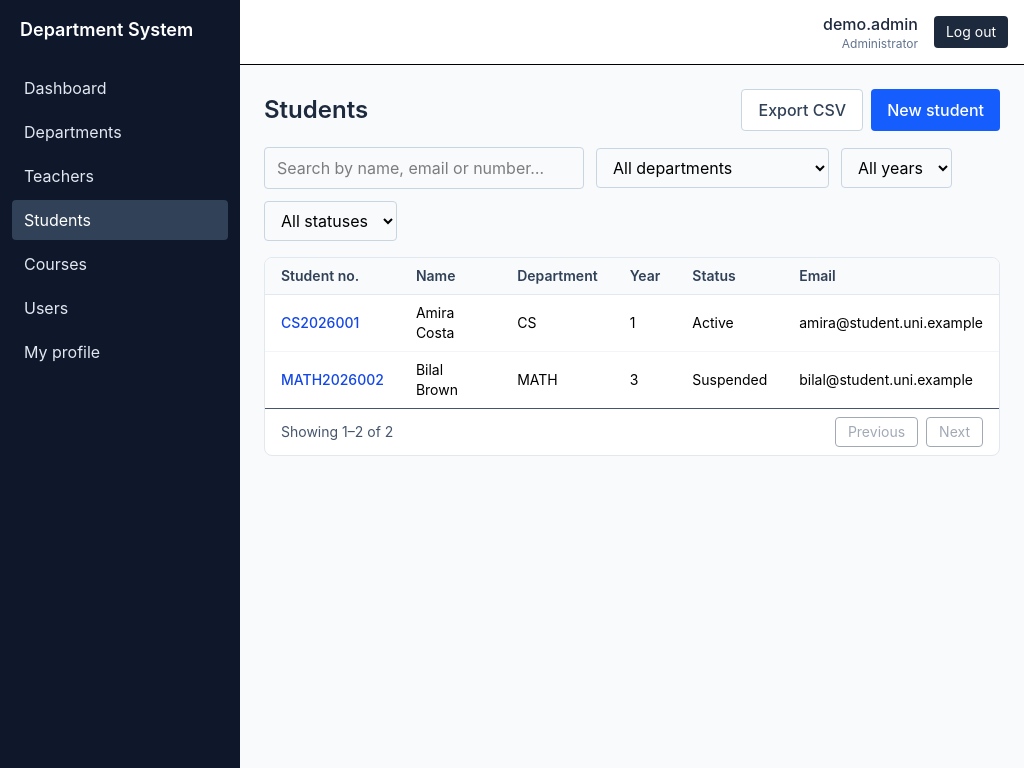
Test: FR-4.1–4.3 create (with every FR-4.2 field and an optional account) › validates before calling the API
Click the button "New student".
click(936, 110)  # box left=871, top=89, right=1000, bottom=131
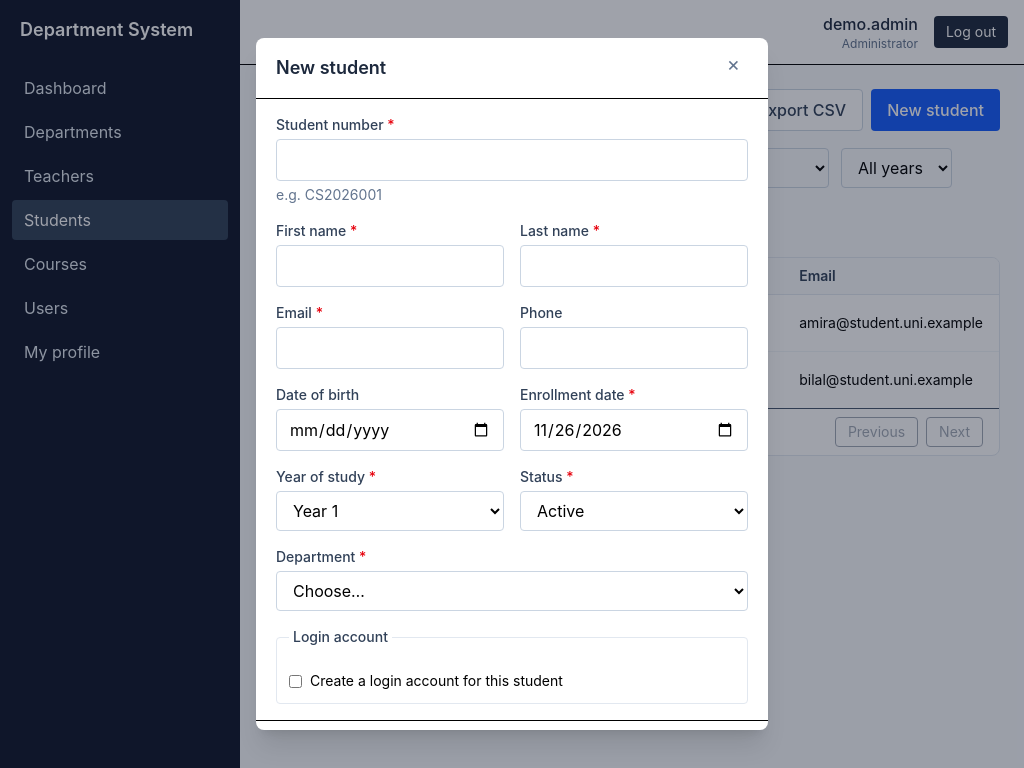
Type "CS 01" into the field labelled "Student number *".
click(512, 160); type("CS 01")  # box left=276, top=139, right=748, bottom=181
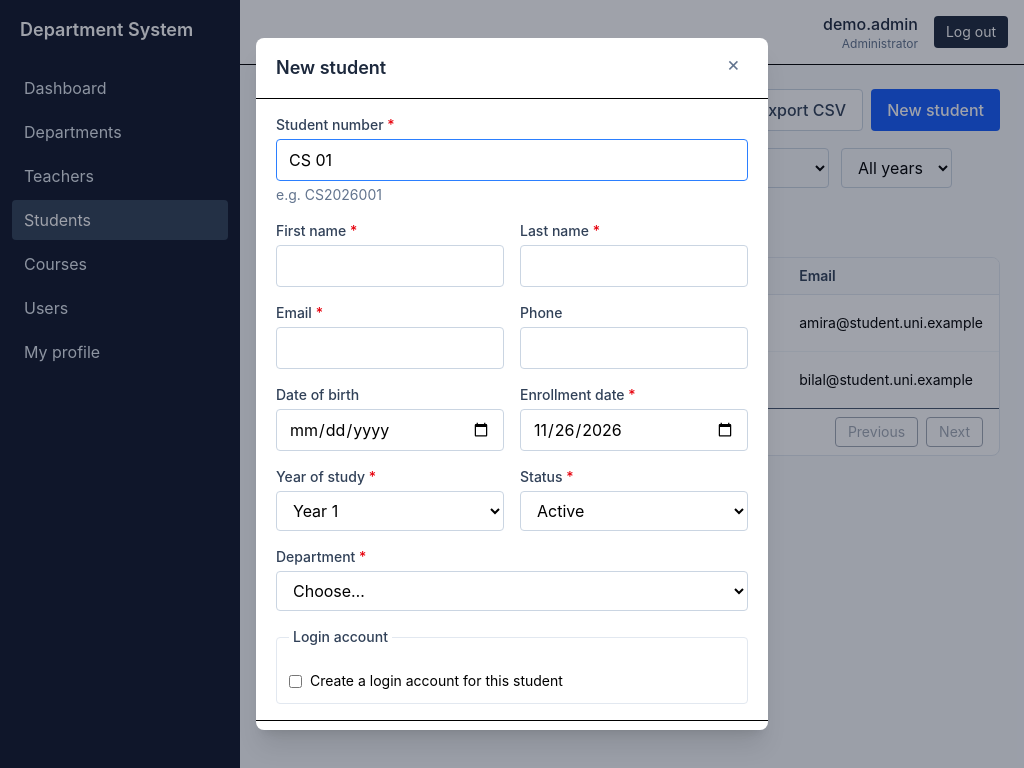
Type "2999-01-01" into the date field labelled "Date of birth".
click(390, 430); type("2999-01-01")  # box left=276, top=409, right=504, bottom=451
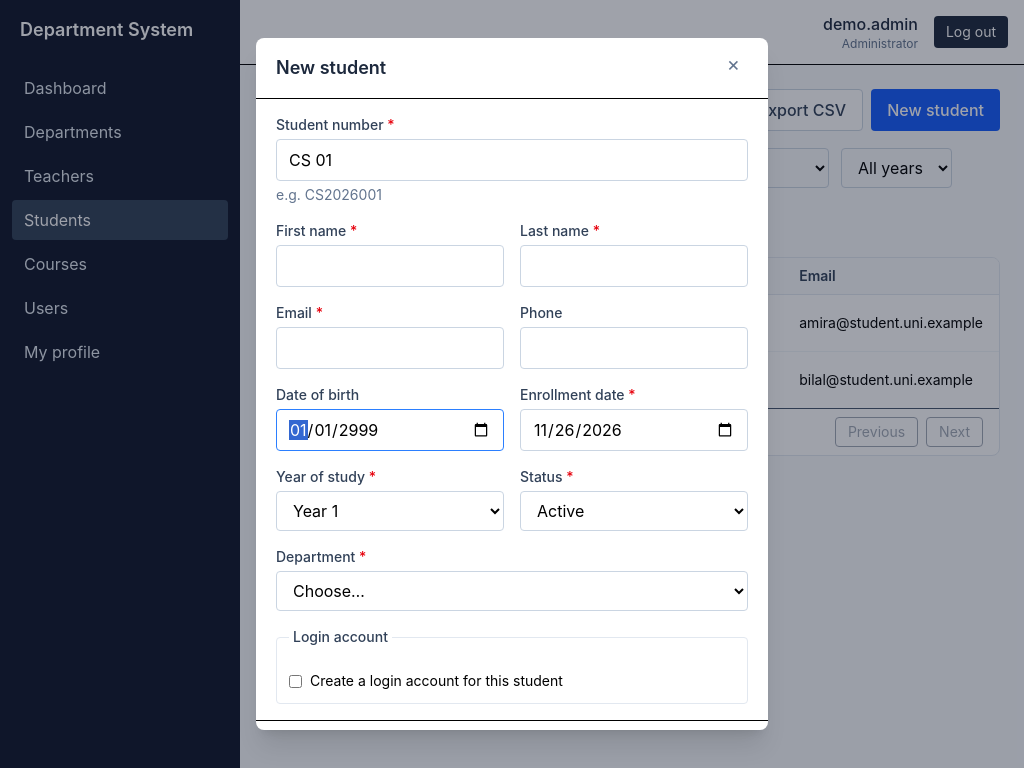
Click the checkbox labelled "Create a login account for this student".
click(296, 681)  # box left=289, top=675, right=302, bottom=688
(page scrolled)
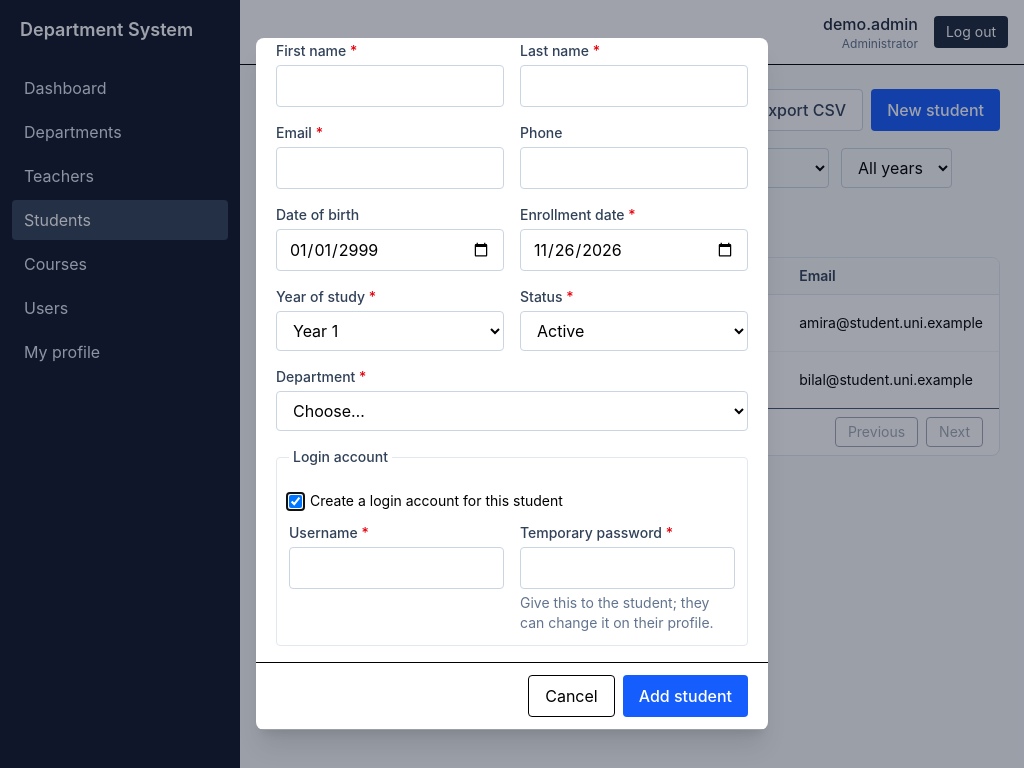
Click the button "Add student".
click(685, 696)  # box left=623, top=675, right=748, bottom=717
(page scrolled)
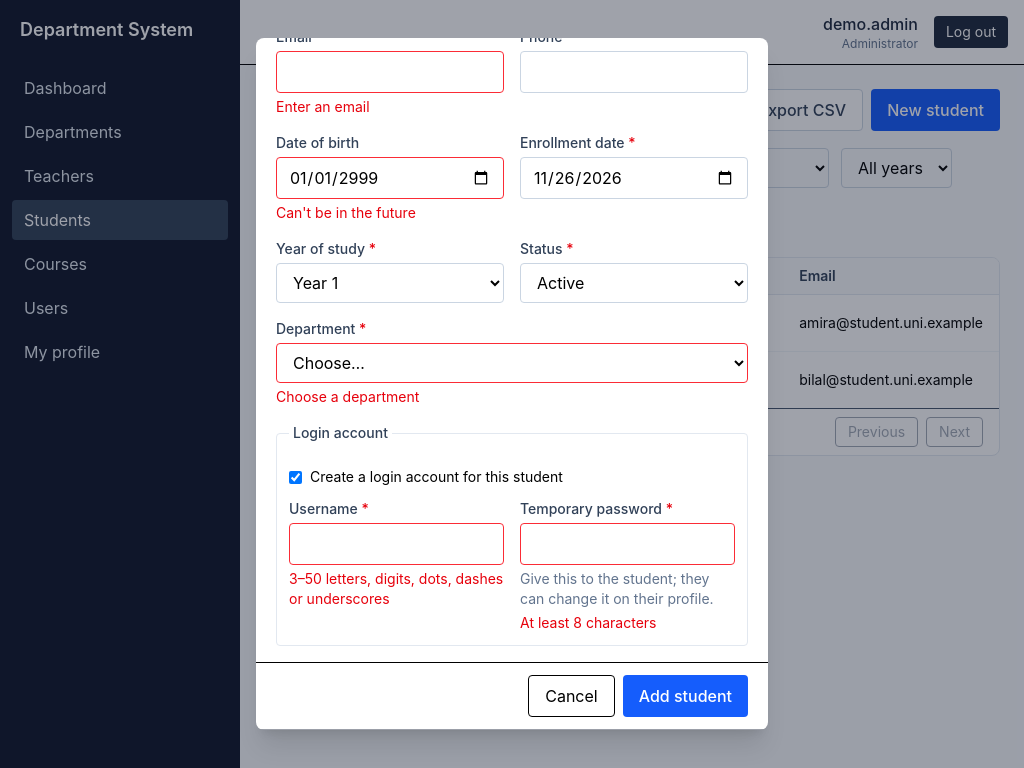
Expected: the text "Enter an email" is shown, left=276, top=98, right=370, bottom=115
Expected: the text "Can't be in the future" is shown, left=276, top=204, right=416, bottom=221
Expected: the text "Choose a department" is shown, left=276, top=388, right=419, bottom=405
